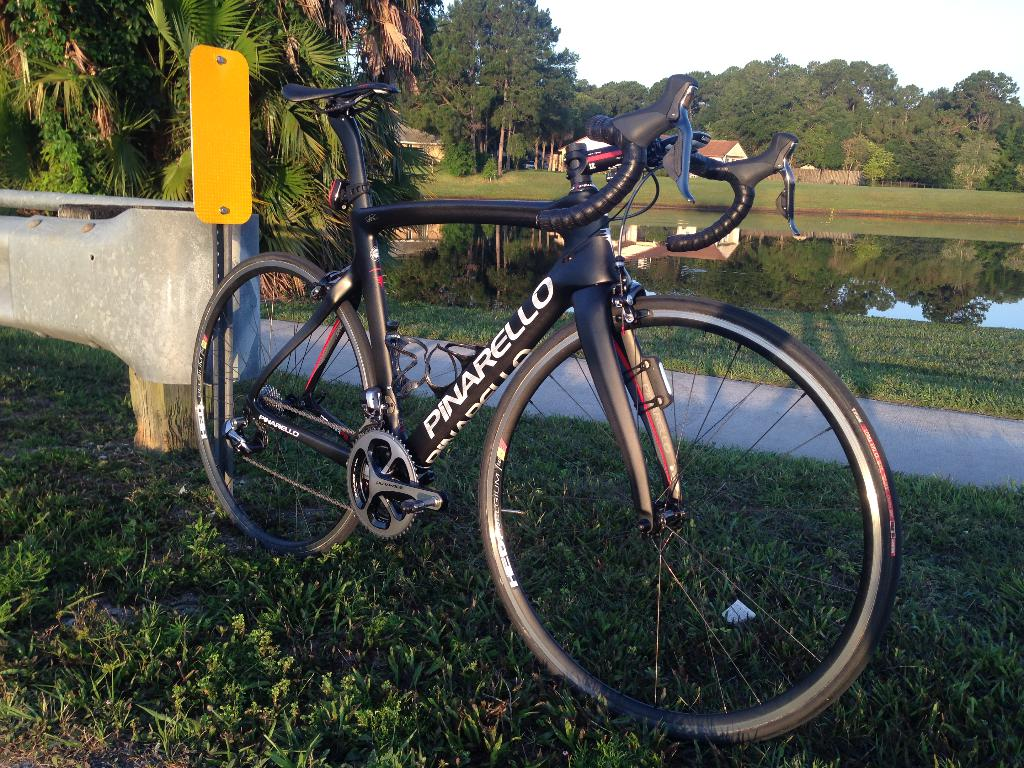Tree: (0, 0, 439, 291), (577, 49, 1023, 187), (387, 1, 602, 177)
